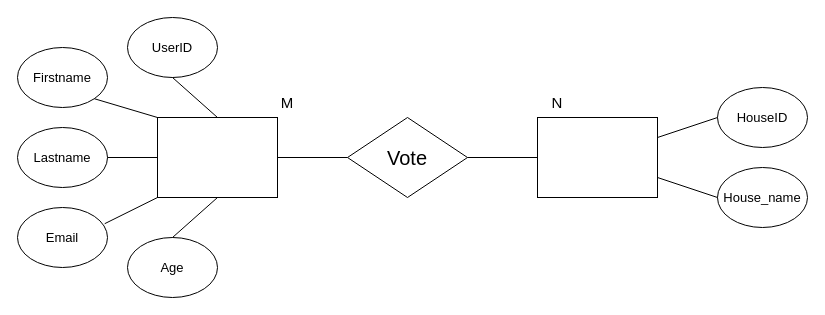
Some shapes in this 825 by 315 pixel diagram are drawn without their labels. The centre of each missing label's shape, as x and y in pixels:
"Houses" goes at (597,157).
"Users" goes at (217,157).
